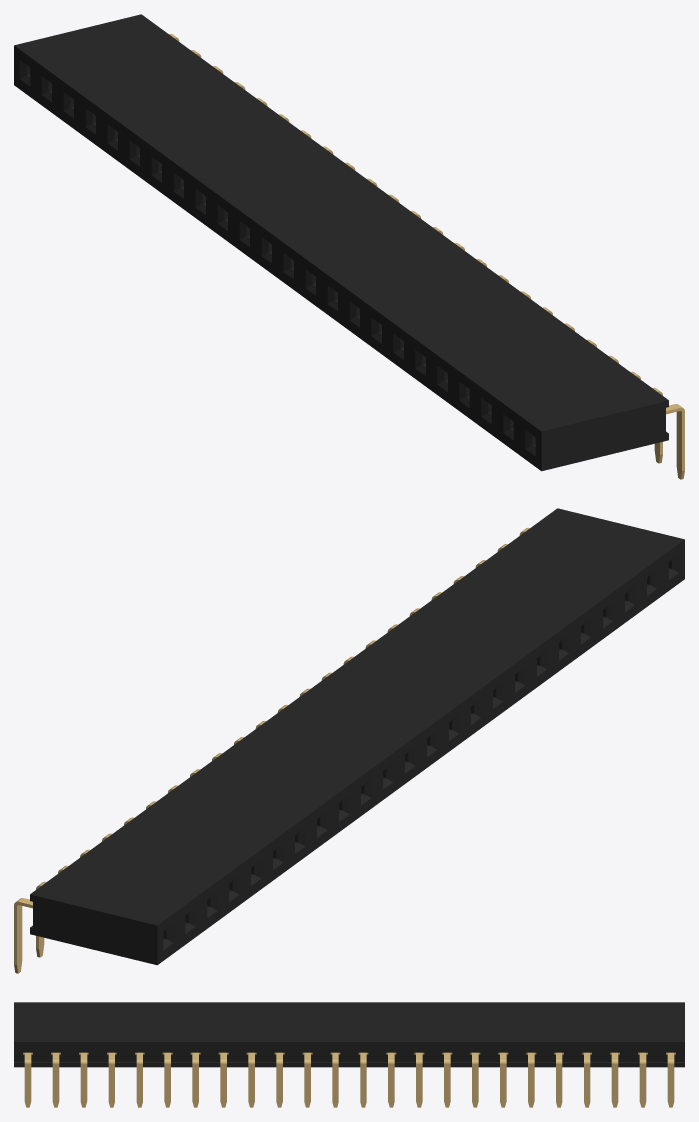
The model's file is kc-pinsocket_1x24_p2.54mm_horizontal.glb.
3 renders of one model, top to bottom at view 1: azimuth 30°, elevation 25°; view 2: azimuth 150°, elevation 25°; view 3: azimuth 270°, elevation 25°, orthographic. The views are drawn at different scales.
Parts seen in each view (by area): view 1: 0_0_0_0, 0.75_0.5_0.25_0.9; view 2: 0_0_0_0, 0.75_0.5_0.25_0.9; view 3: 0_0_0_0, 0.75_0.5_0.25_0.9.
Boxes of the visible parts, <box> form: 0_0_0_0: <box>14,14,668,471</box>; 0.75_0.5_0.25_0.9: <box>169,33,684,479</box>; 0_0_0_0: <box>30,508,684,965</box>; 0.75_0.5_0.25_0.9: <box>14,527,529,973</box>; 0_0_0_0: <box>14,1002,684,1067</box>; 0.75_0.5_0.25_0.9: <box>23,1052,675,1107</box>.
Size of the model in its own units: 1.01 by 0.5839 by 6.1.
